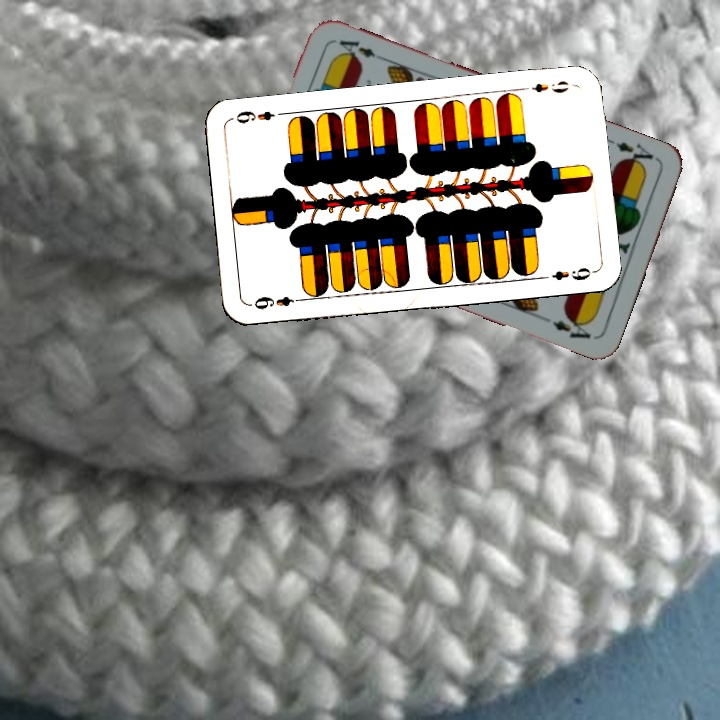E9: (250, 292, 306, 312), (527, 77, 571, 96)
EA: (604, 134, 656, 171)
